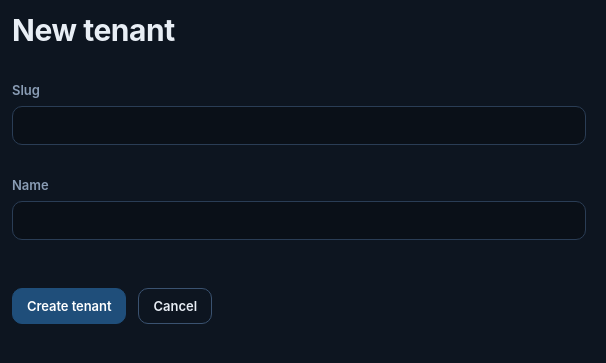
TenantForm create › 409 slug conflict -> inline error on the slug field, no route change
The image size is (606, 363).
Type "taken" into the field labelled "Slug" at point(299, 125), box left=12, top=106, right=586, bottom=145
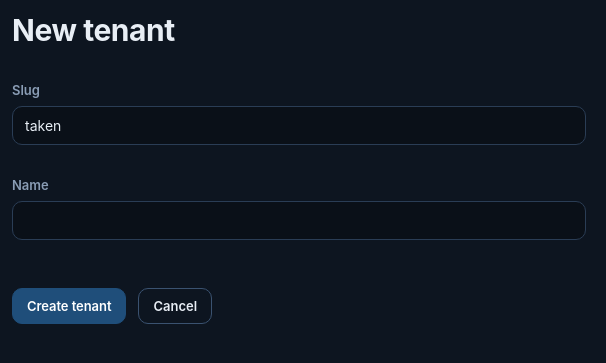
Type "Dup" into the field labelled "Name" at point(299, 220), box left=12, top=201, right=586, bottom=240
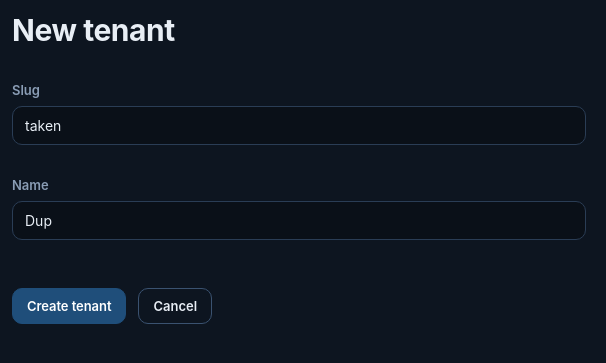
Click the button "Create tenant" at point(69, 306), box left=12, top=288, right=126, bottom=324
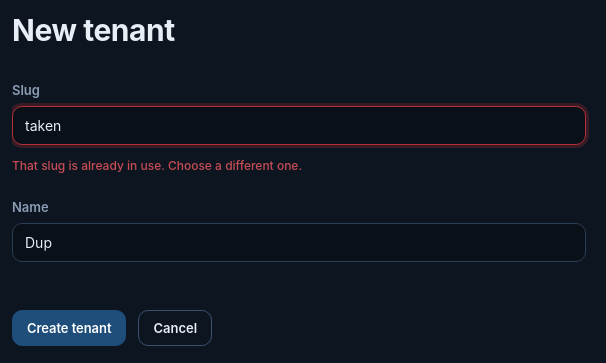
Expected: the text "That slug is already in use. Choose a different one." is shown, left=12, top=158, right=302, bottom=173
